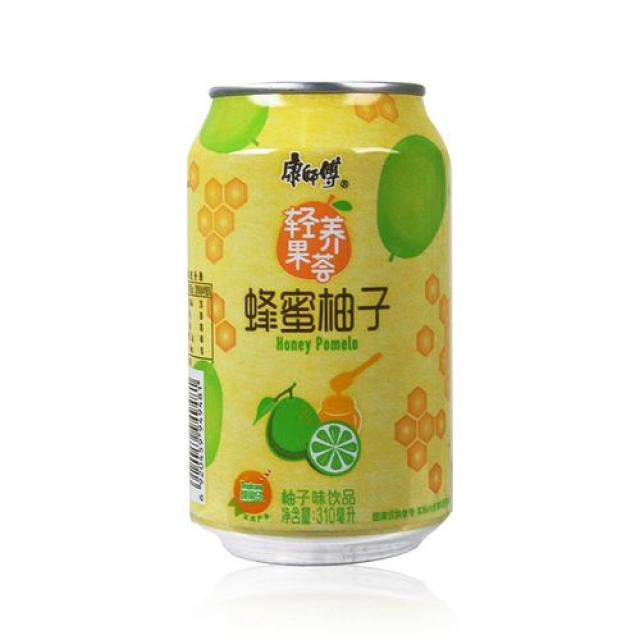can: (180, 75, 457, 570)
